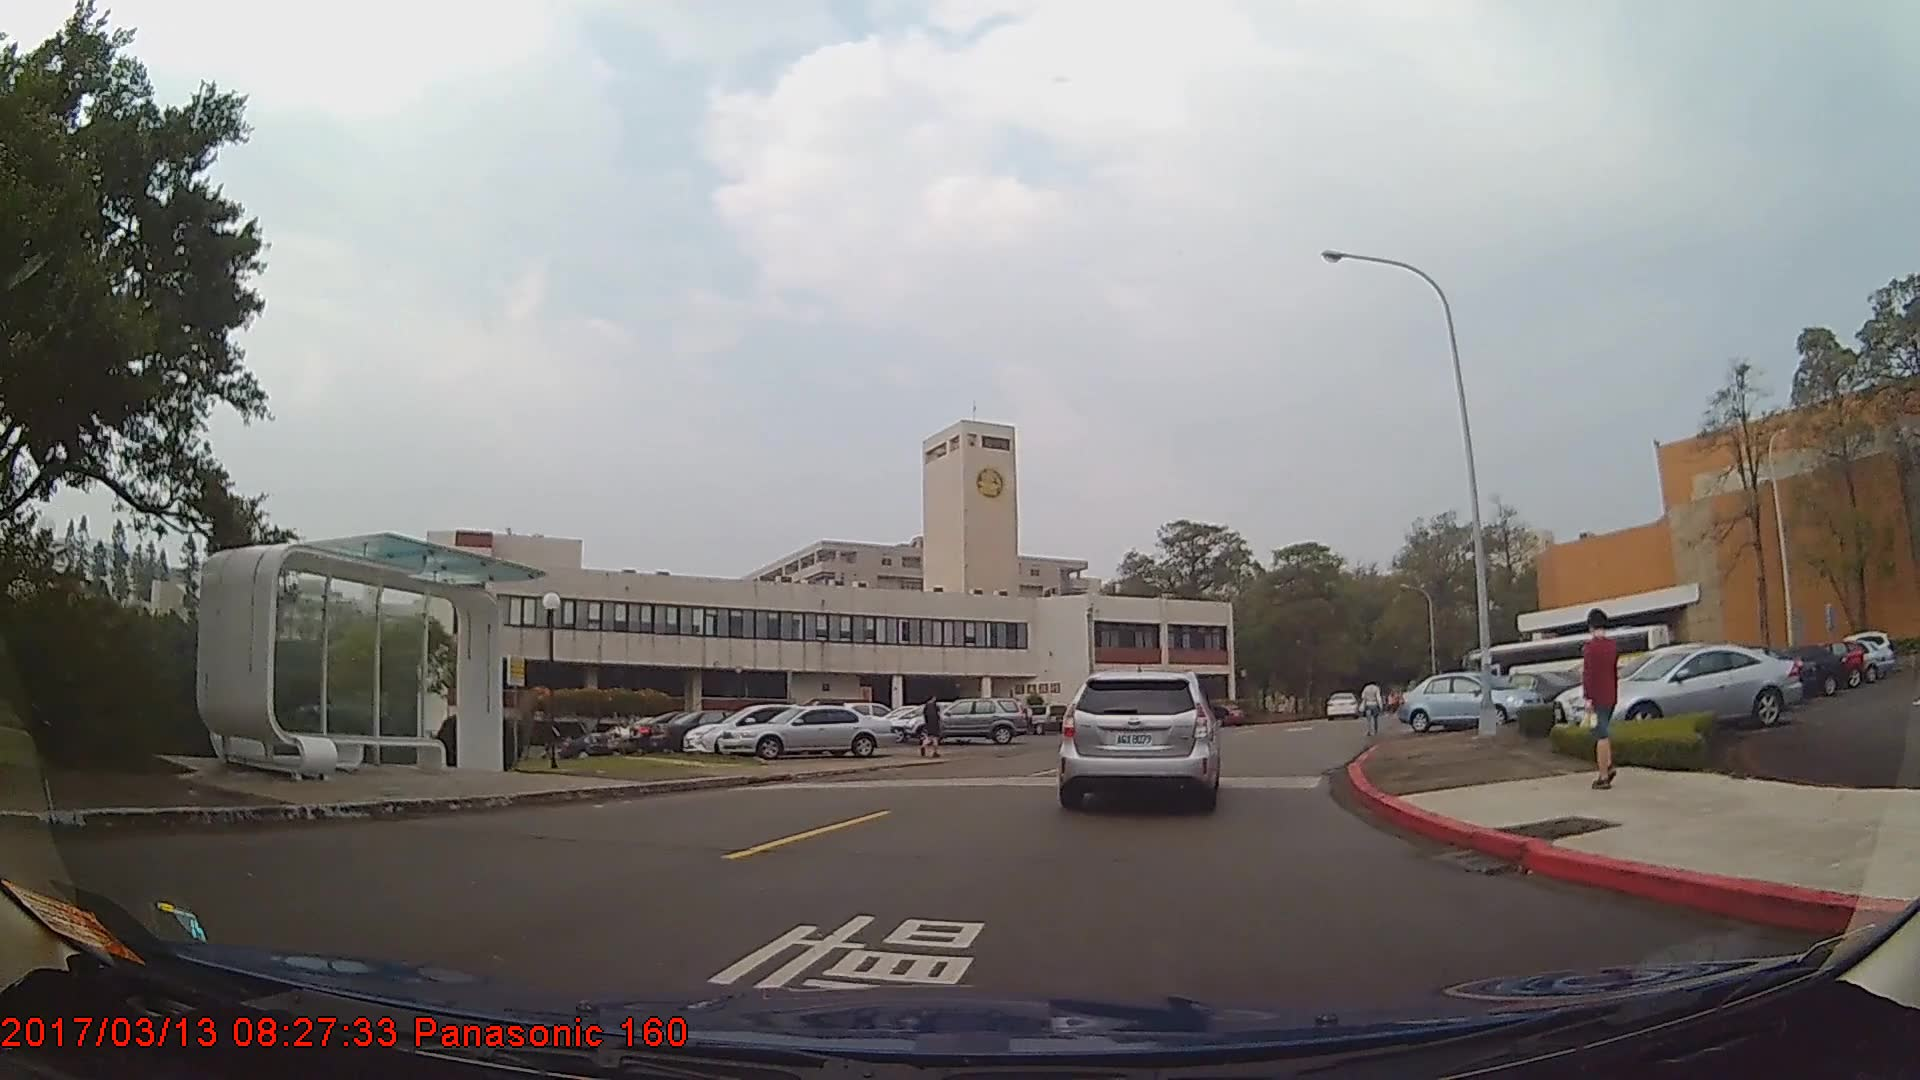pedestrian: (1576, 608, 1632, 793), (919, 694, 947, 763), (1360, 673, 1387, 736)
vehicle: (1059, 670, 1220, 813), (1577, 639, 1801, 730), (717, 704, 896, 759), (1396, 669, 1543, 732), (676, 701, 849, 754), (1733, 639, 1846, 693), (903, 696, 1031, 743), (648, 706, 760, 756), (1324, 687, 1358, 719)
